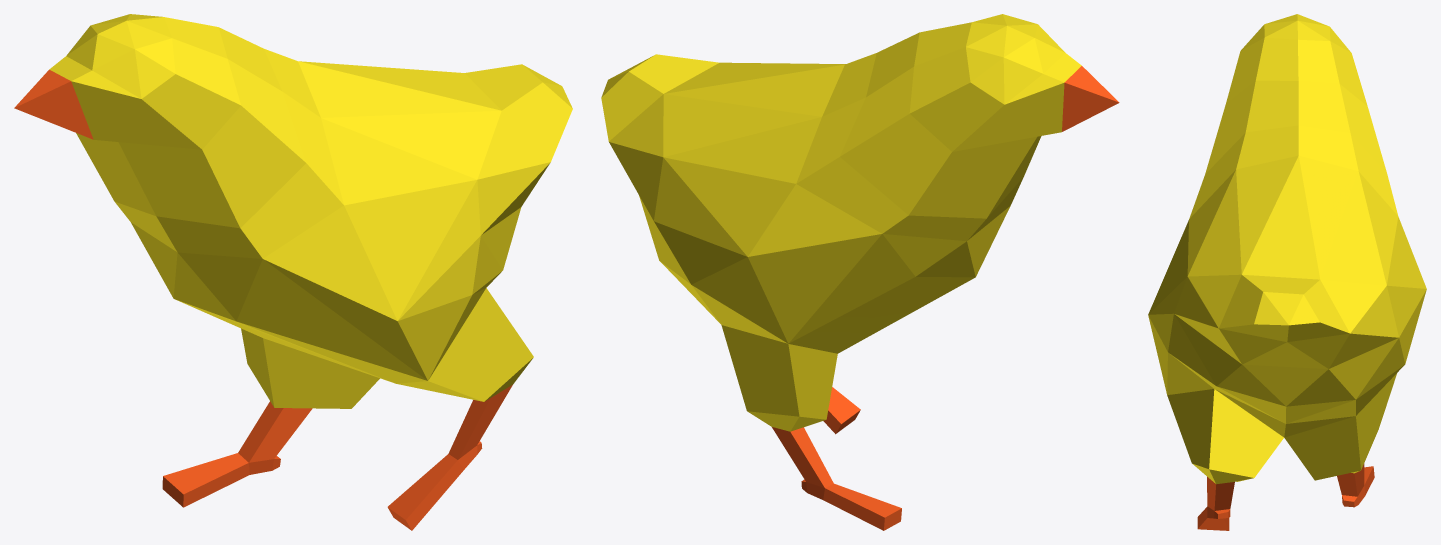
File: chickWalking5.obj
3 renders of one model, left to right at view 1: azimuth 30°, elevation 25°; view 2: azimuth 150°, elevation 25°; view 3: azimuth 270°, elevation 25°, orthographic. The views are drawn at different scales.
Visible parts, largest first — view 1: Icosphere.001_Icosphere.002; view 2: Icosphere.001_Icosphere.002; view 3: Icosphere.001_Icosphere.002.
Boxes of the visible parts, x1,y1,x2,y2 form: Icosphere.001_Icosphere.002: (14,14,572,530); Icosphere.001_Icosphere.002: (601,14,1119,530); Icosphere.001_Icosphere.002: (1148,14,1426,530).
Size of the model in its own units: 13.81 by 12.75 by 7.54.
